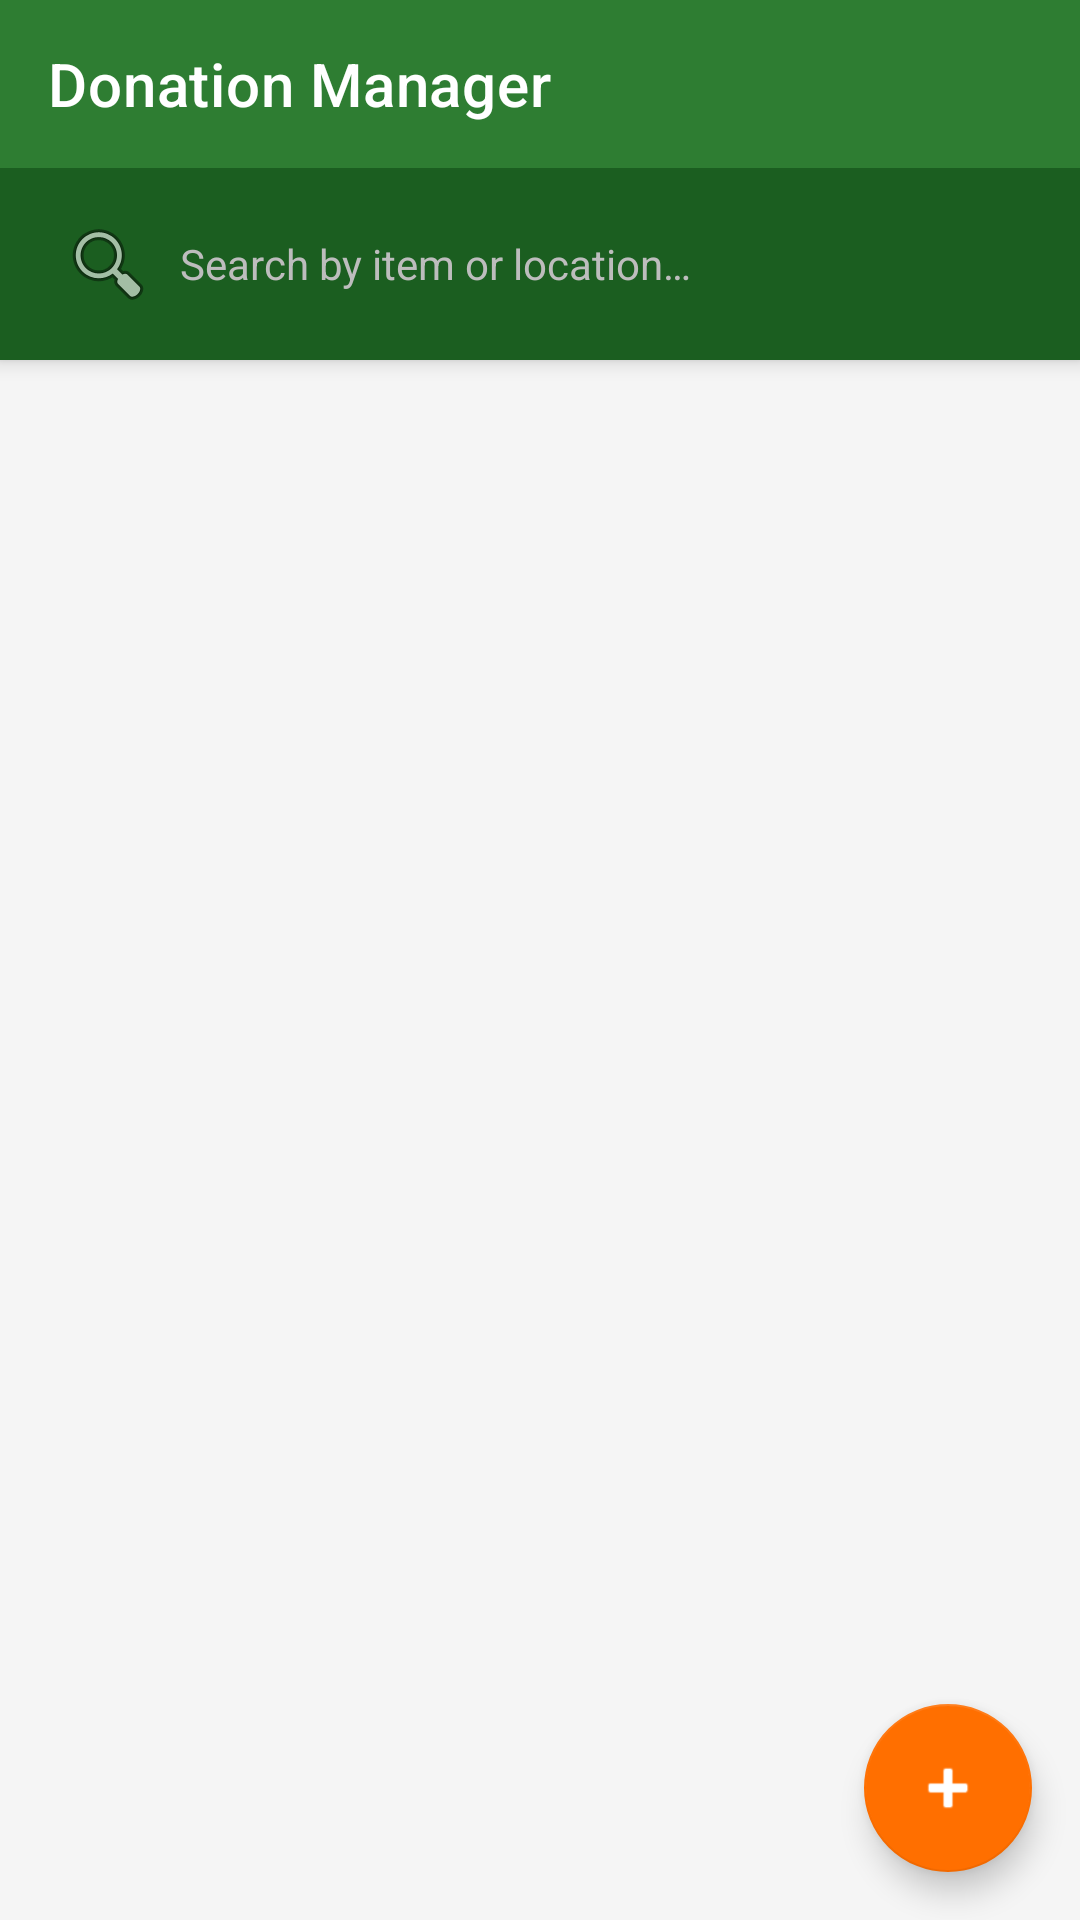

Icons on this 1080x1920 Android screen, each with its box as bbox=(x1, y1, x2, y2):
Add donation: bbox=(864, 1704, 1032, 1872)
